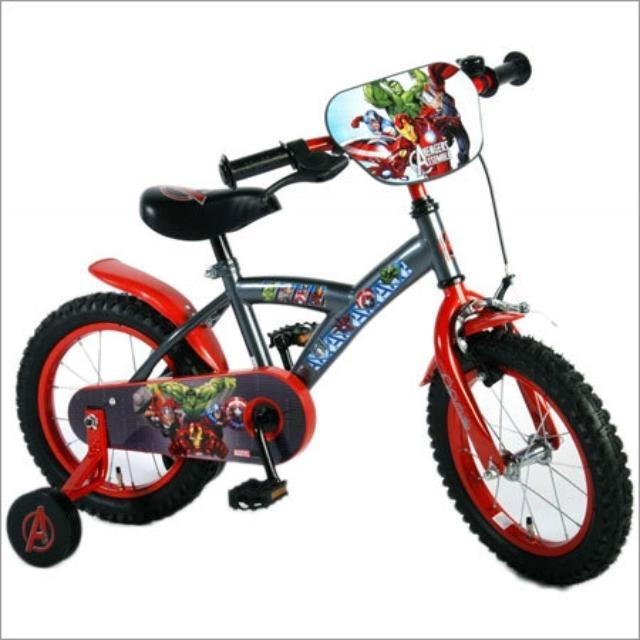obstacle: (2, 41, 640, 596)
